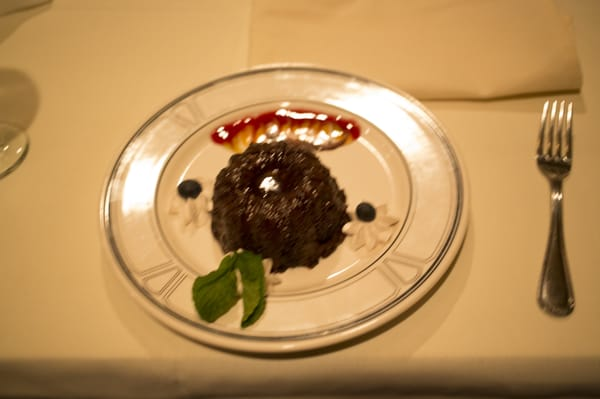burger: (535, 98, 576, 318)
